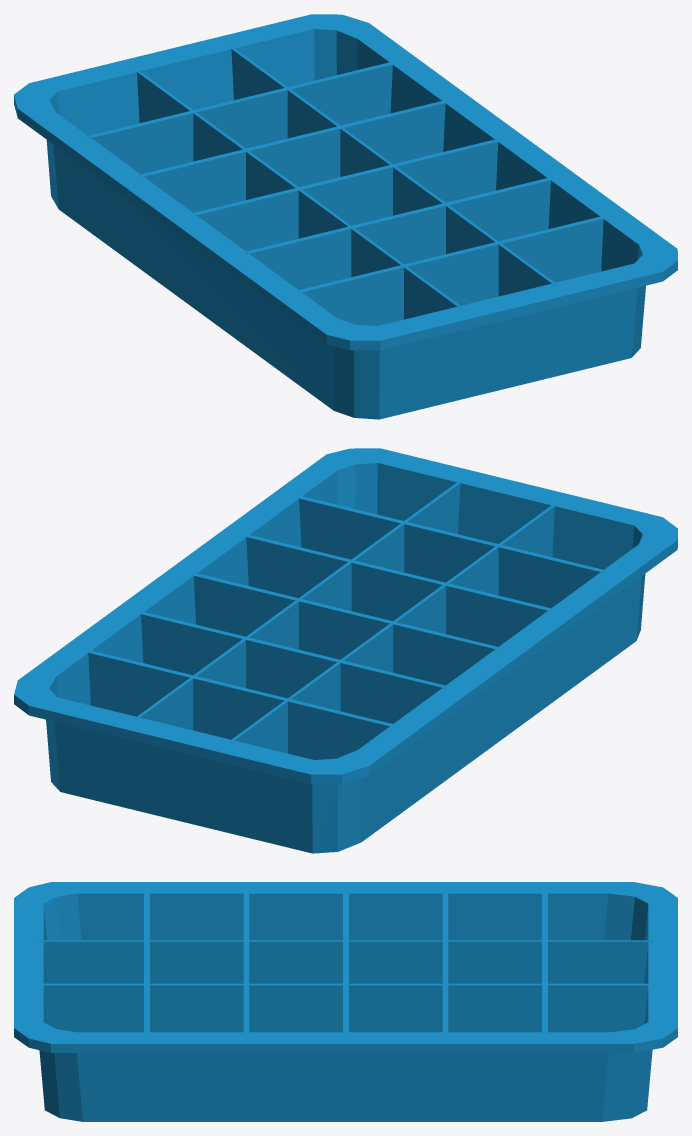
The picture shows the model from 3 angles, top to bottom: view 1: azimuth 30°, elevation 25°; view 2: azimuth 150°, elevation 25°; view 3: azimuth 270°, elevation 25°; orthographic projection. The views are drawn at different scales.
Parts seen in each view (by area): view 1: Node; view 2: Node; view 3: Node.
Part boxes in pixels (<box>): Node: <box>14,14,677,419</box>; Node: <box>14,448,677,853</box>; Node: <box>14,882,677,1121</box>.
Size of the model in its own units: 1.83 by 0.4707 by 3.17.
